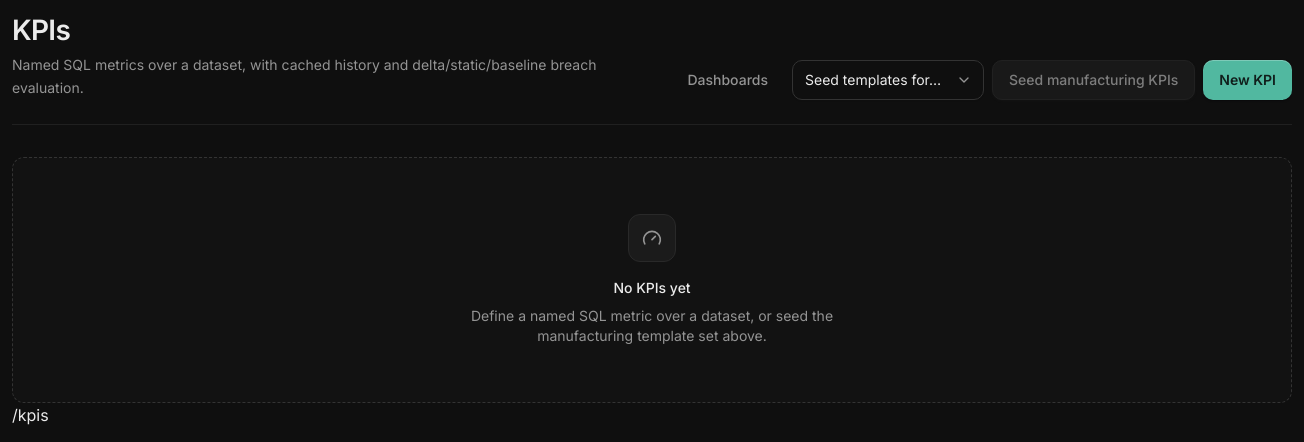
Test case: Kpis › seeds manufacturing templates for the chosen dataset
The image size is (1304, 442).
expect the text "No KPIs yet" is shown: met, box x1=613 y1=278 x2=691 y2=298
expect the button "Seed manufacturing KPIs" is disabled: met, box x1=992 y1=60 x2=1195 y2=100
Select "Line 1 output" in the dropdown named "Seed templates for…" at (888, 80), box x1=792 y1=60 x2=984 y2=100
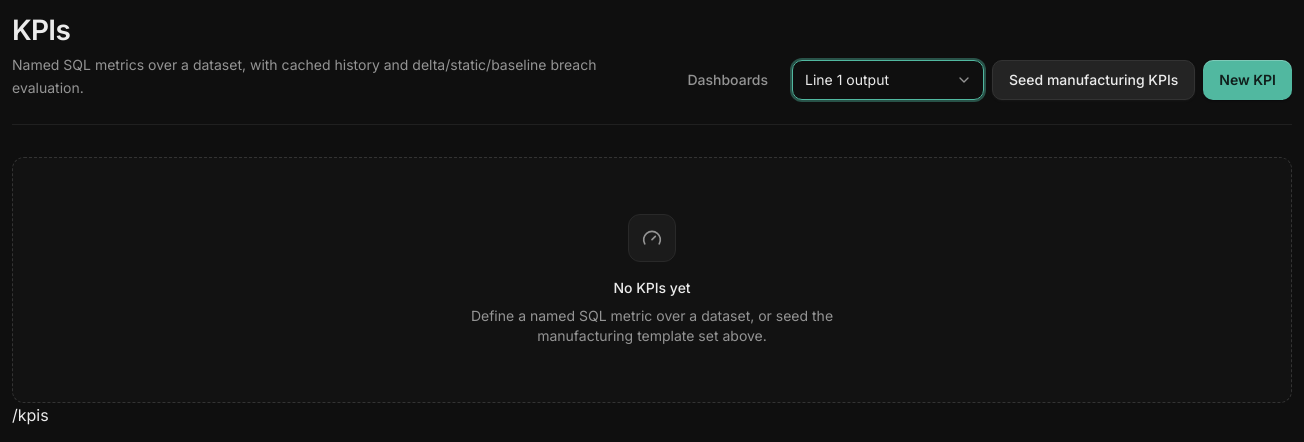
Click the button "Seed manufacturing KPIs" at (1094, 80), box x1=992 y1=60 x2=1195 y2=100
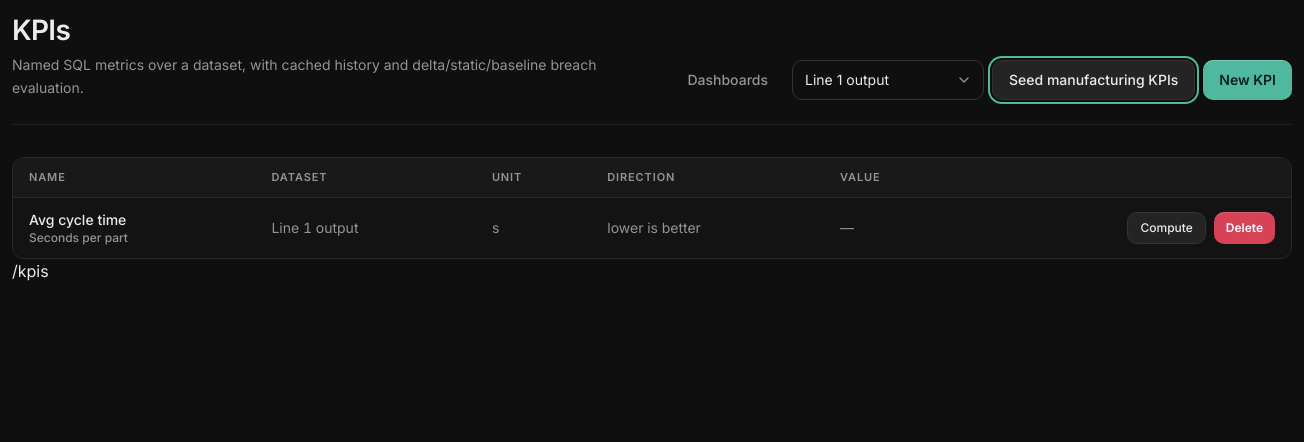
expect the text "Avg cycle time" is shown: met, box x1=29 y1=211 x2=126 y2=228
